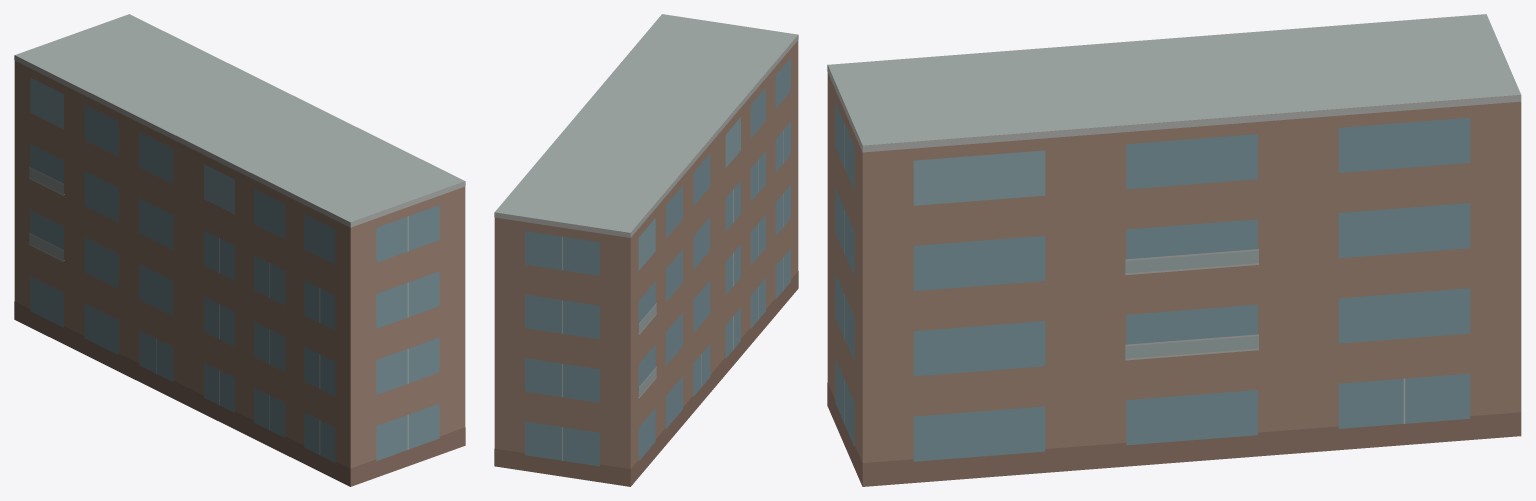
File: residential-8fb07b96-e81b-4948-8916-882b8a4a040d.glb
The picture shows the model from 3 angles, left to right: view 1: azimuth 30°, elevation 25°; view 2: azimuth 150°, elevation 25°; view 3: azimuth 270°, elevation 25°; orthographic projection. The views are drawn at different scales.
Parts seen in each view (by area): view 1: residential-8fb07b96-e81b-4948-8916-882b8a4a040d.tmp; view 2: residential-8fb07b96-e81b-4948-8916-882b8a4a040d.tmp; view 3: residential-8fb07b96-e81b-4948-8916-882b8a4a040d.tmp.
Boxes of the visible parts, bbox=[...] form: residential-8fb07b96-e81b-4948-8916-882b8a4a040d.tmp: bbox=[14, 14, 465, 486]; residential-8fb07b96-e81b-4948-8916-882b8a4a040d.tmp: bbox=[494, 14, 798, 486]; residential-8fb07b96-e81b-4948-8916-882b8a4a040d.tmp: bbox=[827, 14, 1521, 486].
Bounding box in the file's own units: 10.1 × 12.2 × 22.49.
